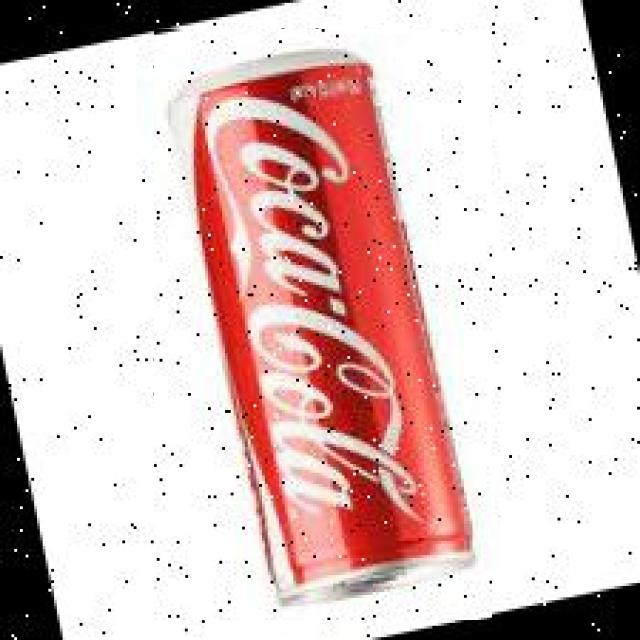coca-cola: (154, 29, 492, 620)
